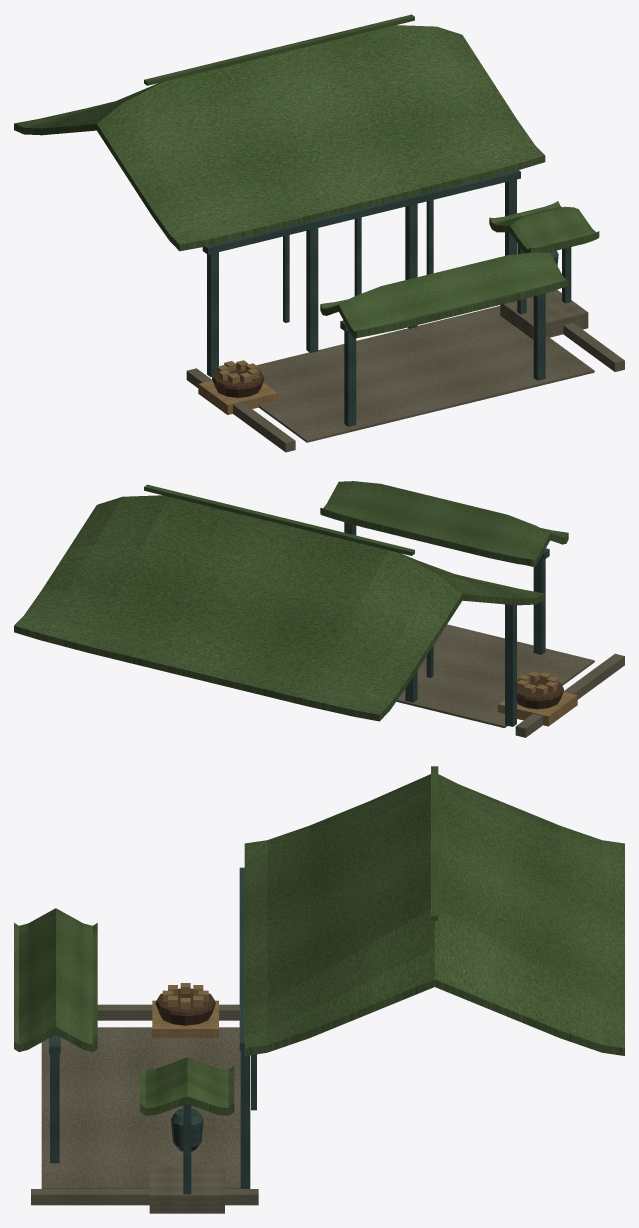
3 renders of one model, top to bottom at view 1: azimuth 30°, elevation 25°; view 2: azimuth 150°, elevation 25°; view 3: azimuth 270°, elevation 25°, orthographic. The views are drawn at different scales.
Parts seen in each view (by area): view 1: garrison_part_0001, garrison_part_0000, garrison_part_0002; view 2: garrison_part_0001, garrison_part_0000, garrison_part_0002; view 3: garrison_part_0001, garrison_part_0000, garrison_part_0002.
Part boxes in pixels (<box>): garrison_part_0001: <box>14,25,599,338</box>; garrison_part_0000: <box>186,179,624,452</box>; garrison_part_0002: <box>144,14,558,397</box>; garrison_part_0001: <box>14,481,568,721</box>; garrison_part_0000: <box>344,522,624,737</box>; garrison_part_0002: <box>144,484,563,709</box>; garrison_part_0001: <box>14,774,624,1194</box>; garrison_part_0000: <box>31,869,258,1213</box>; garrison_part_0002: <box>155,766,438,1151</box>.
Bounding box in the file's own units: 936 × 560 × 1153.
